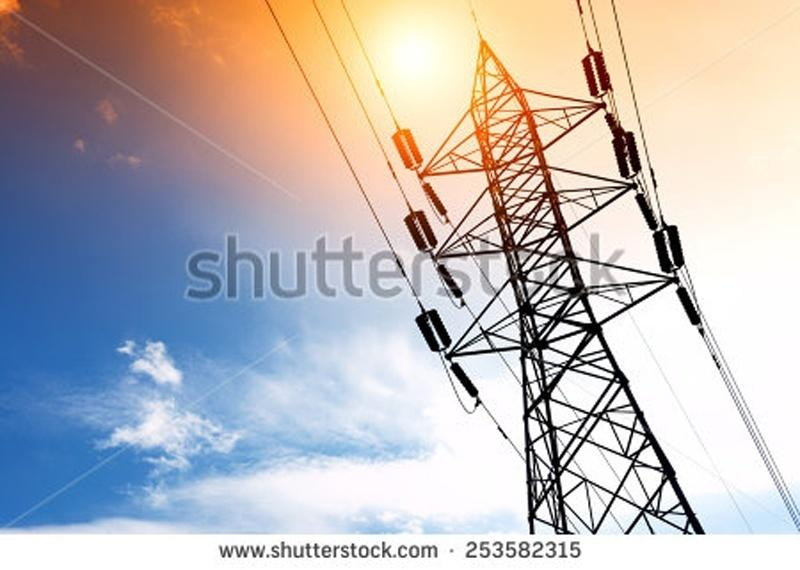power_tower: (412, 42, 700, 520)
